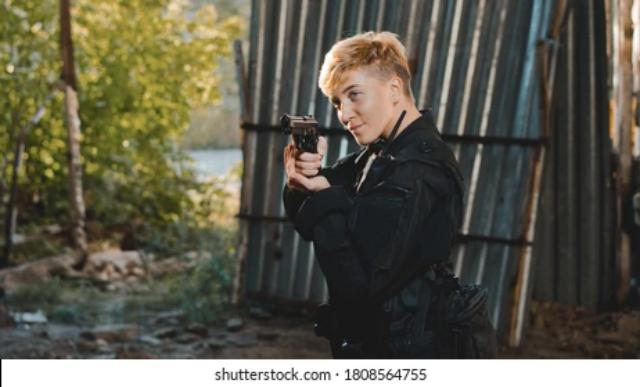other: (309, 37, 455, 300)
